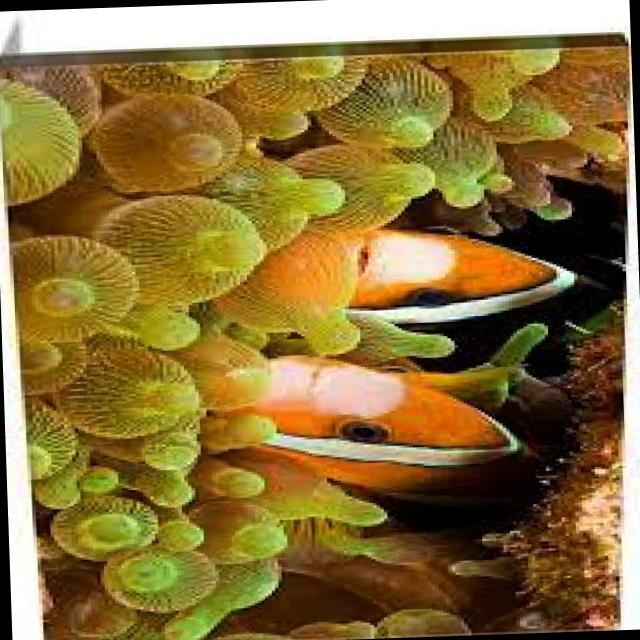ClownFish: (200, 329, 575, 528), (282, 218, 631, 351)
